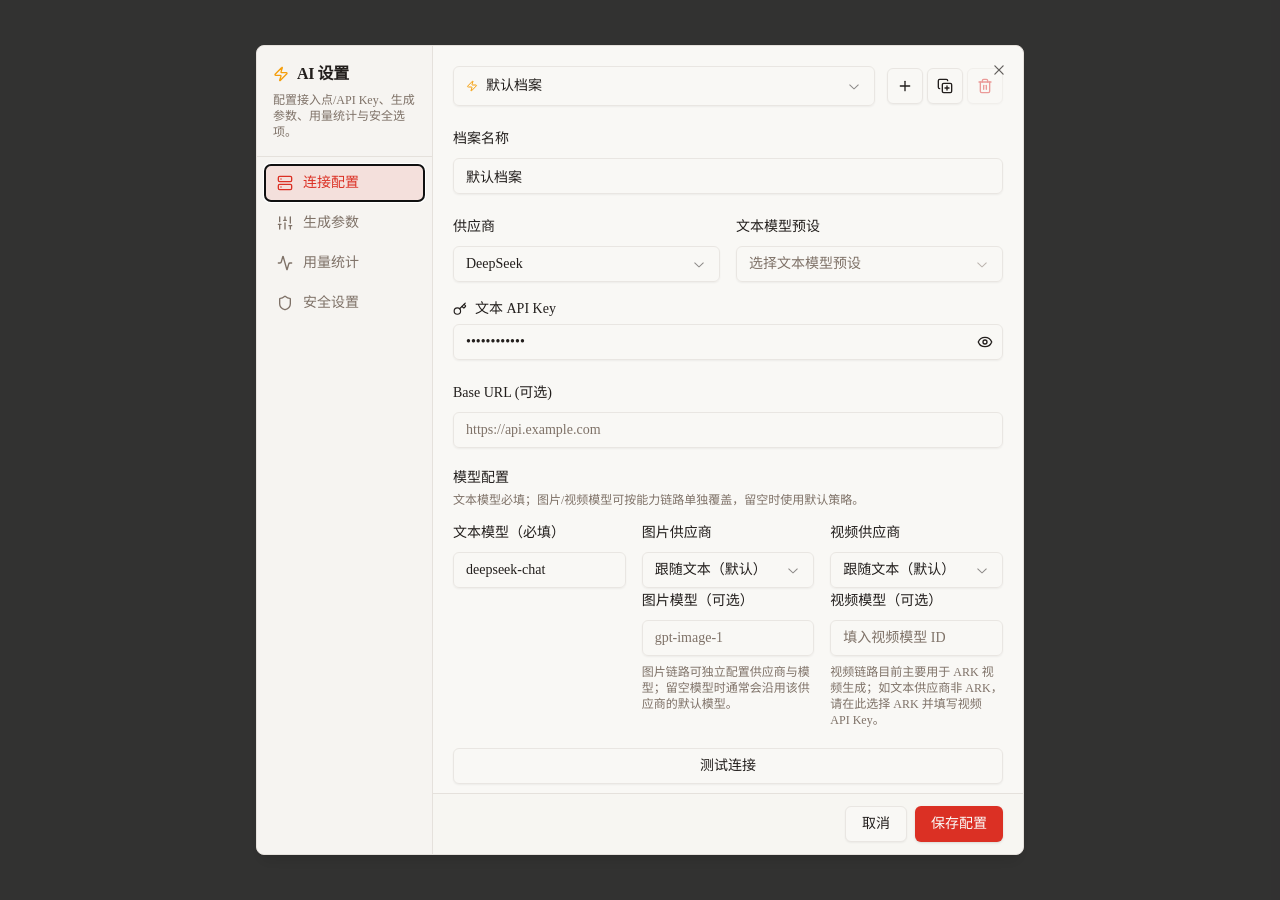
it: ConfigDialog 加密密码设置 › 已设置密码时应显示更换密码选项
Click the button "安全设置" at (344, 303), box top-left (265, 285), bottom-right (424, 321)
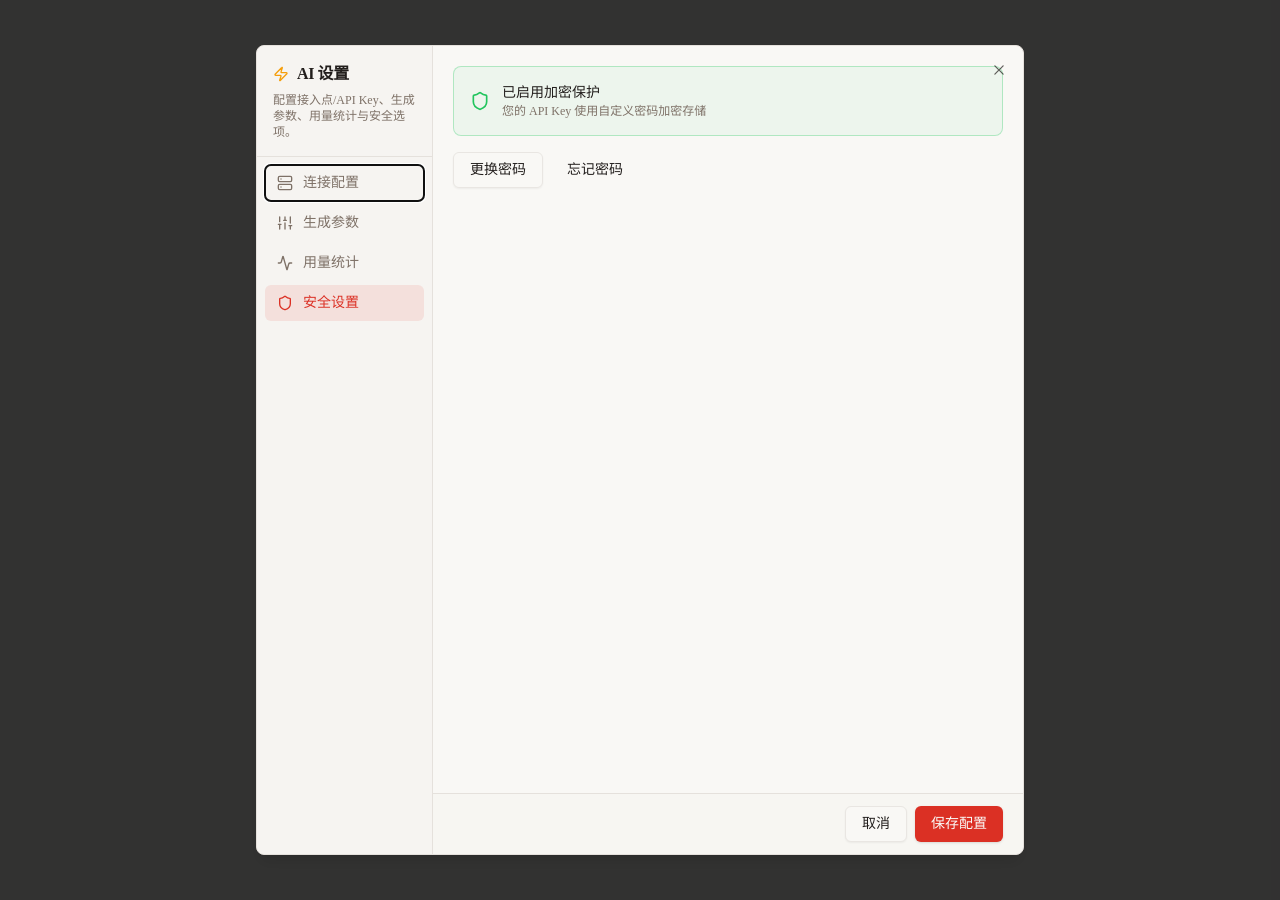
Now the text "已启用加密保护" is shown, box top-left (502, 85), bottom-right (600, 100)
Now the button "更换密码" is shown, box top-left (453, 152), bottom-right (543, 188)
